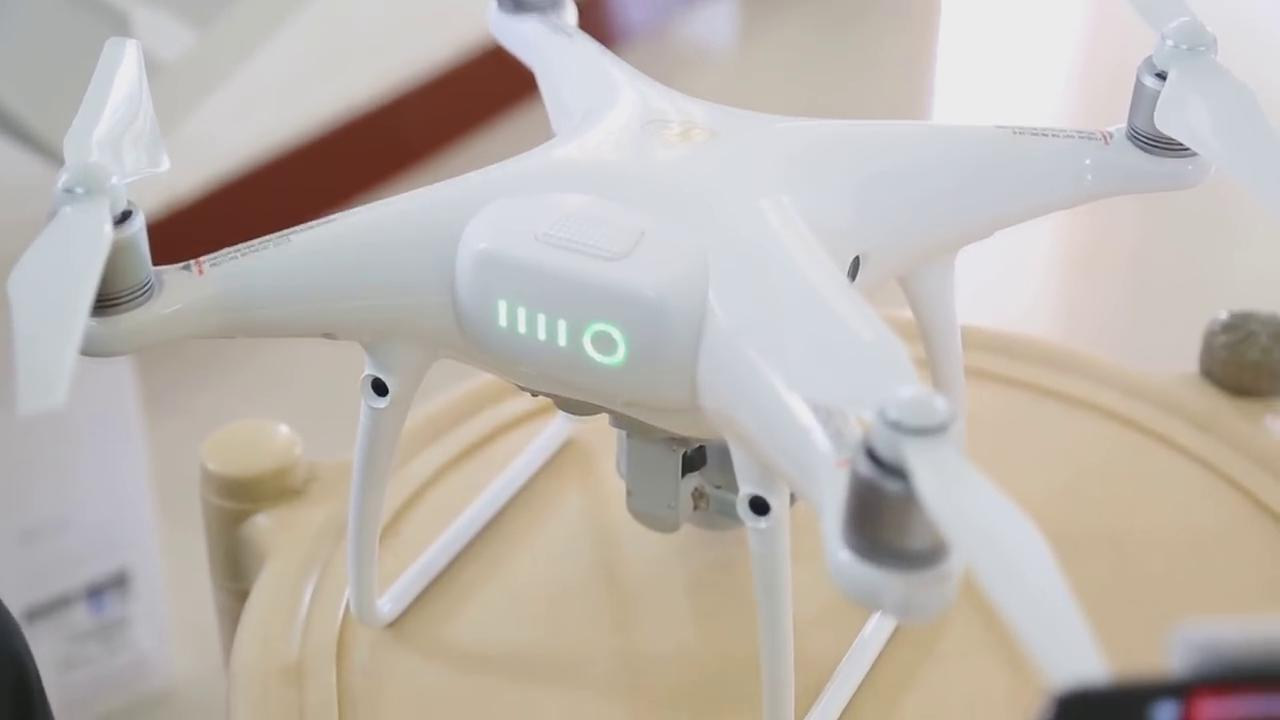drone: (15, 4, 1280, 703)
